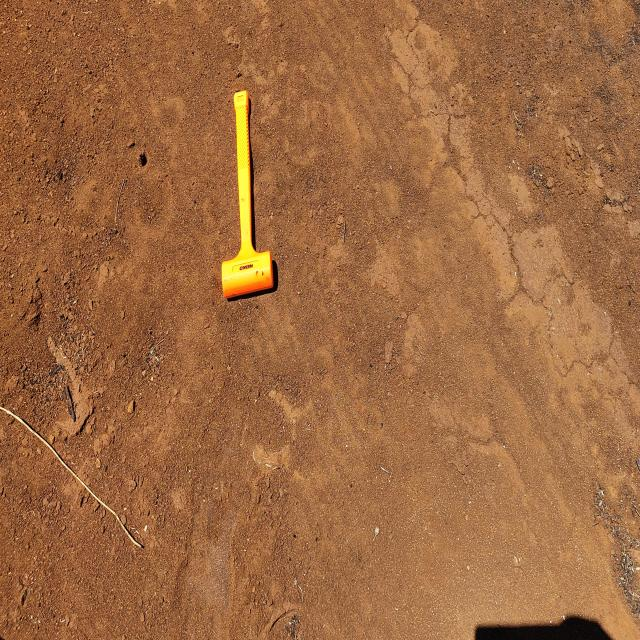Orange_hammer: (220, 88, 274, 300)
